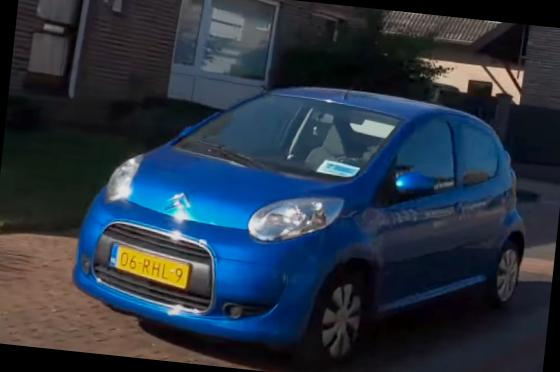license-plate: (107, 241, 190, 291)
